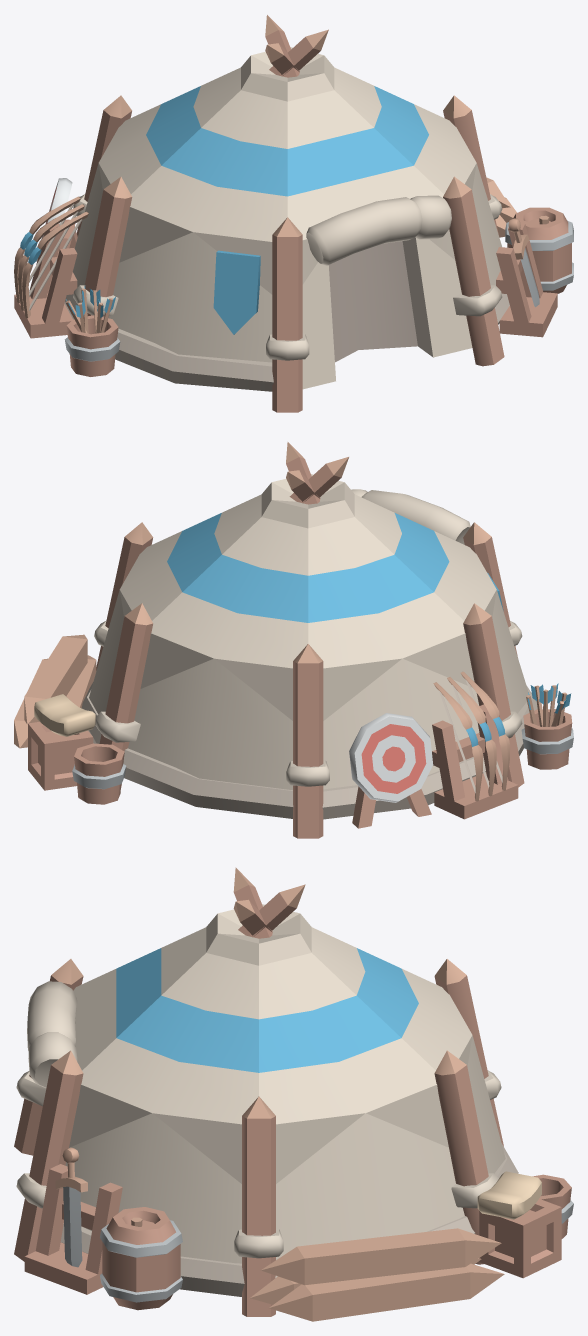
Rendered from tent_part.glb.
3 renders of one model, top to bottom at view 1: azimuth 30°, elevation 25°; view 2: azimuth 150°, elevation 25°; view 3: azimuth 270°, elevation 25°, orthographic. The views are drawn at different scales.
Parts seen in each view (by area): view 1: X_building_tent_blue; view 2: X_building_tent_blue; view 3: X_building_tent_blue.
Boxes of the visible parts, bbox=[...] form: X_building_tent_blue: bbox=[14, 15, 573, 412]; X_building_tent_blue: bbox=[14, 442, 573, 838]; X_building_tent_blue: bbox=[14, 867, 573, 1321].
Bounding box in the file's own units: 1.52 × 0.8496 × 1.34.
